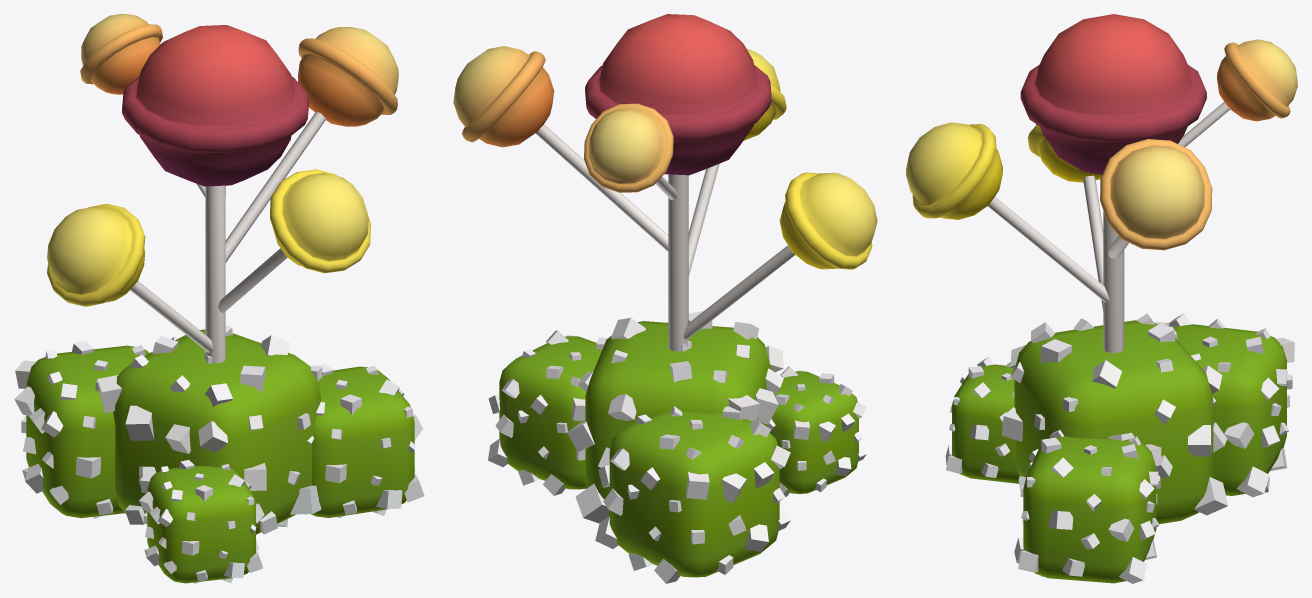
Rendered from cw_PlantsFlowers_19.fbx.
The picture shows the model from 3 angles, left to right: view 1: azimuth 30°, elevation 25°; view 2: azimuth 150°, elevation 25°; view 3: azimuth 270°, elevation 25°; orthographic projection.
Parts seen in each view (by area): view 1: cw_pf_19; view 2: cw_pf_19; view 3: cw_pf_19.
Boxes of the visible parts, box(x1,y1,x2,y2) form: cw_pf_19: box(14, 14, 424, 583); cw_pf_19: box(453, 14, 877, 583); cw_pf_19: box(906, 14, 1297, 583).
Size of the model in its own units: 166 by 208 by 150.
